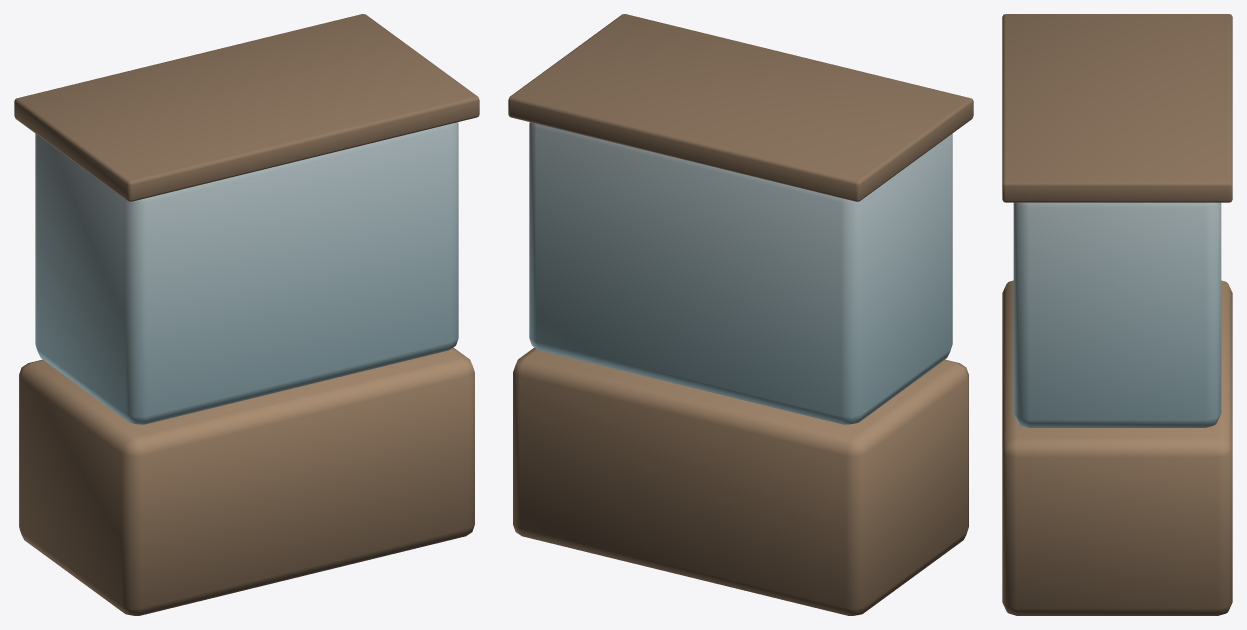
The model's file is fish_tank.glb.
3 views of the same model, side by side, from view 1: azimuth 30°, elevation 25°; view 2: azimuth 150°, elevation 25°; view 3: azimuth 270°, elevation 25° (orthographic).
Visible parts, largest first — view 1: fish_tank; view 2: fish_tank; view 3: fish_tank.
Boxes of the visible parts, box(x1,y1,x2,y2) form: fish_tank: box(14, 14, 479, 615); fish_tank: box(508, 14, 973, 615); fish_tank: box(1002, 14, 1232, 615).
Bounding box in the file's own units: 0.7 × 0.84 × 0.4.
